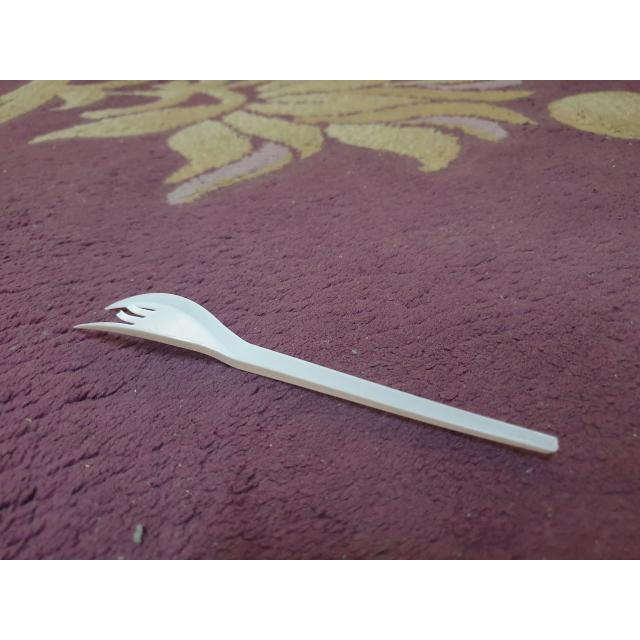Plastico descartable: (77, 292, 559, 454)
